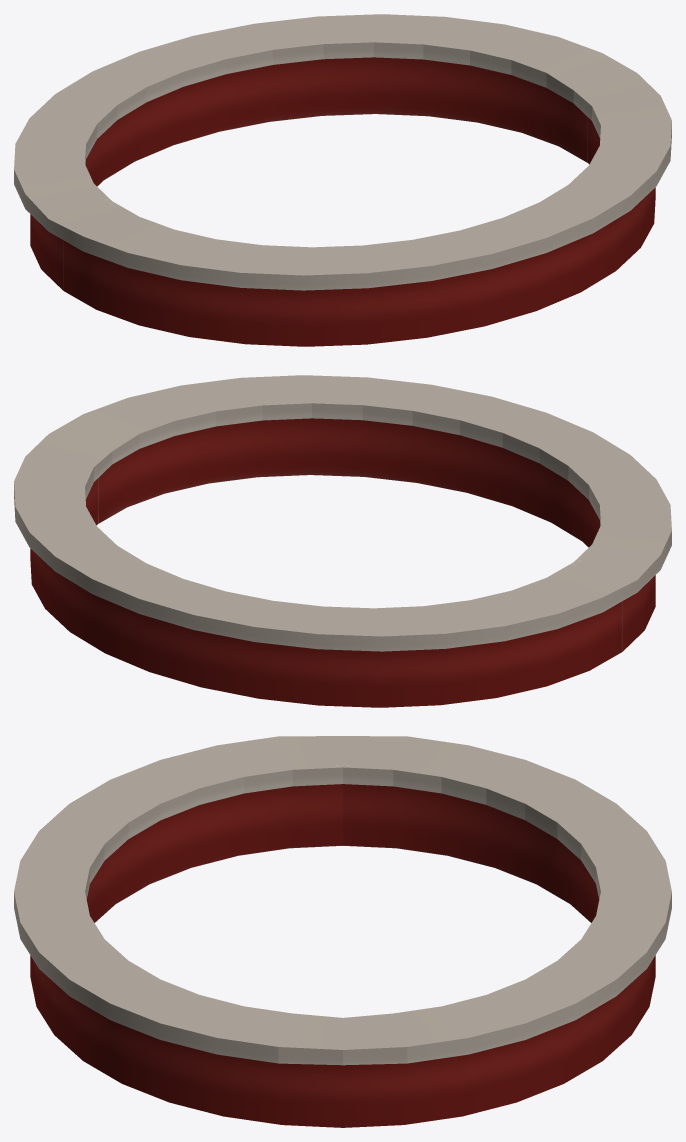
The model's file is Table_Circle.fbx.
3 renders of one model, top to bottom at view 1: azimuth 30°, elevation 25°; view 2: azimuth 150°, elevation 25°; view 3: azimuth 270°, elevation 25°, orthographic. The views are drawn at different scales.
Visible parts, largest first — view 1: Table_Circle; view 2: Table_Circle; view 3: Table_Circle.
Part boxes in pixels (x1,y1,x2,y2): Table_Circle: [14, 14, 671, 346]; Table_Circle: [14, 375, 671, 707]; Table_Circle: [14, 736, 671, 1127].
Size of the model in its own units: 2405 by 304 by 2111.
